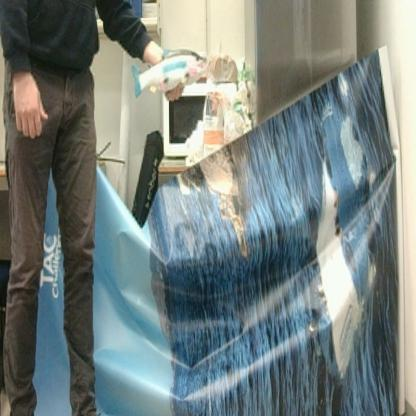rubberfish: (132, 48, 211, 104)
